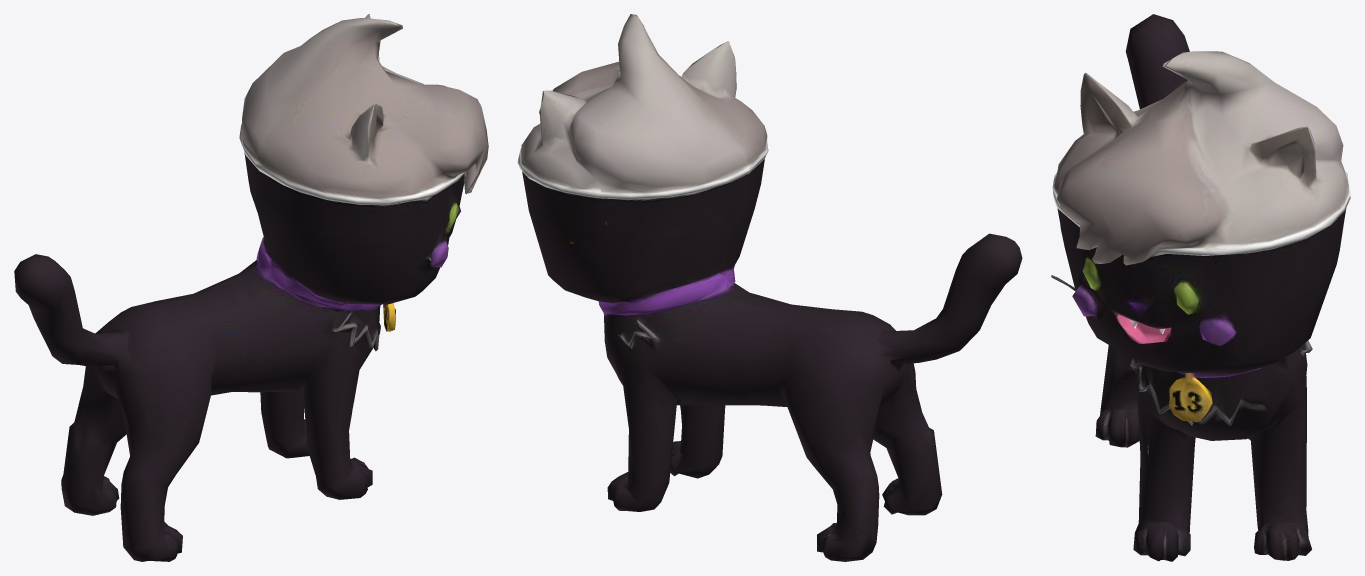
The model's file is GRIDDLE-lo.glb.
3 views of the same model, side by side, from view 1: azimuth 30°, elevation 25°; view 2: azimuth 150°, elevation 25°; view 3: azimuth 270°, elevation 25° (orthographic). The views are drawn at different scales.
Visible parts, largest first — view 1: tripo_node_8cea3140-59c6-4d95-9c3d-54ff4e836828; view 2: tripo_node_8cea3140-59c6-4d95-9c3d-54ff4e836828; view 3: tripo_node_8cea3140-59c6-4d95-9c3d-54ff4e836828.
Part boxes in pixels (<box>): tripo_node_8cea3140-59c6-4d95-9c3d-54ff4e836828: <box>14,14,488,561</box>; tripo_node_8cea3140-59c6-4d95-9c3d-54ff4e836828: <box>517,14,1022,561</box>; tripo_node_8cea3140-59c6-4d95-9c3d-54ff4e836828: <box>1051,14,1350,561</box>.
Size of the model in its own units: 1.08 by 0.9975 by 0.5136.
1 material, 1 textured.
